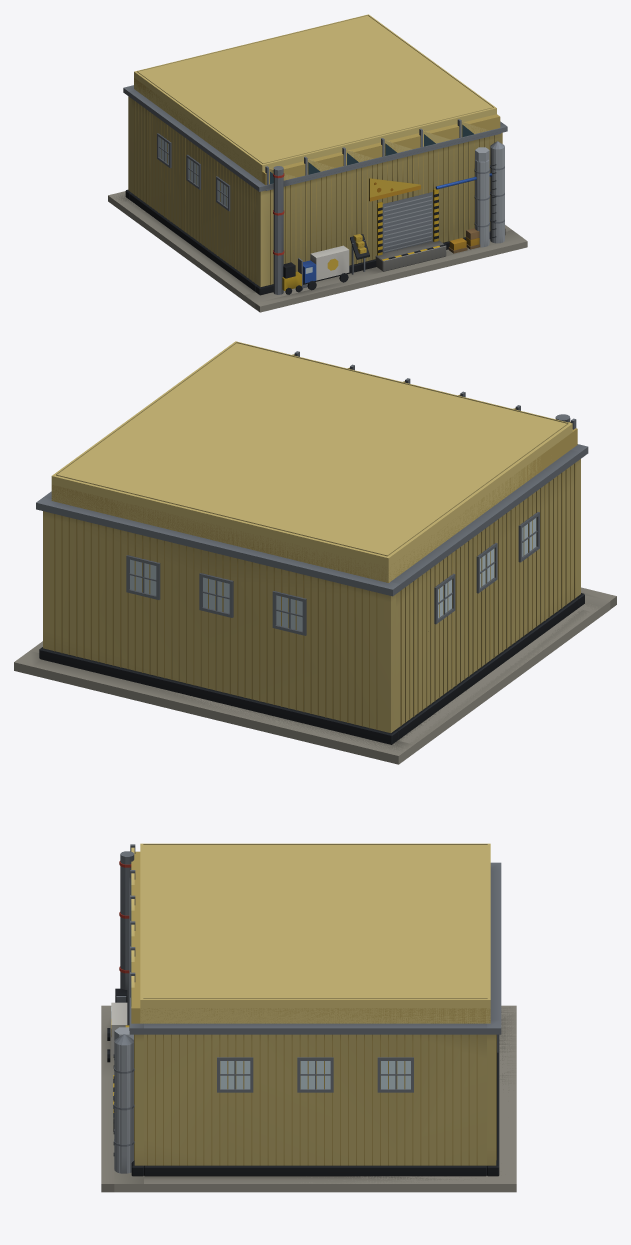
Rendered from CheeseVaultHeartFloor.fbx.
The picture shows the model from 3 angles, top to bottom: view 1: azimuth 30°, elevation 25°; view 2: azimuth 150°, elevation 25°; view 3: azimuth 270°, elevation 25°; orthographic projection. The views are drawn at different scales.
Parts seen in each view (by area): view 1: VH_S_All, VH_F_Rings, VH_F_Smooth, VH_F_Quiet, VH_F_Props, VH_F_Glass; view 2: VH_S_All, VH_F_Rings, VH_F_Smooth, VH_F_Quiet, VH_F_Glass; view 3: VH_S_All, VH_F_Rings, VH_F_Smooth, VH_F_Quiet, VH_F_Glass, VH_F_Props.
Part boxes in pixels (box(x1,y1,x2,y2)): VH_S_All: box(108, 14, 522, 308); VH_F_Rings: box(123, 15, 507, 288); VH_F_Smooth: box(123, 88, 527, 312); VH_F_Quiet: box(109, 191, 526, 306); VH_F_Props: box(282, 141, 504, 290); VH_F_Glass: box(159, 124, 473, 273); VH_S_All: box(14, 341, 610, 764); VH_F_Rings: box(36, 342, 587, 744); VH_F_Smooth: box(36, 351, 616, 744); VH_F_Quiet: box(14, 587, 616, 754); VH_F_Glass: box(130, 518, 536, 631); VH_S_All: box(114, 843, 516, 1192); VH_F_Rings: box(113, 844, 501, 1167); VH_F_Smooth: box(101, 844, 501, 1192); VH_F_Quiet: box(101, 1005, 516, 1183); VH_F_Glass: box(111, 879, 410, 1089); VH_F_Props: box(111, 988, 133, 1055).
Bounding box in the file's own units: 60 × 20 × 60.
